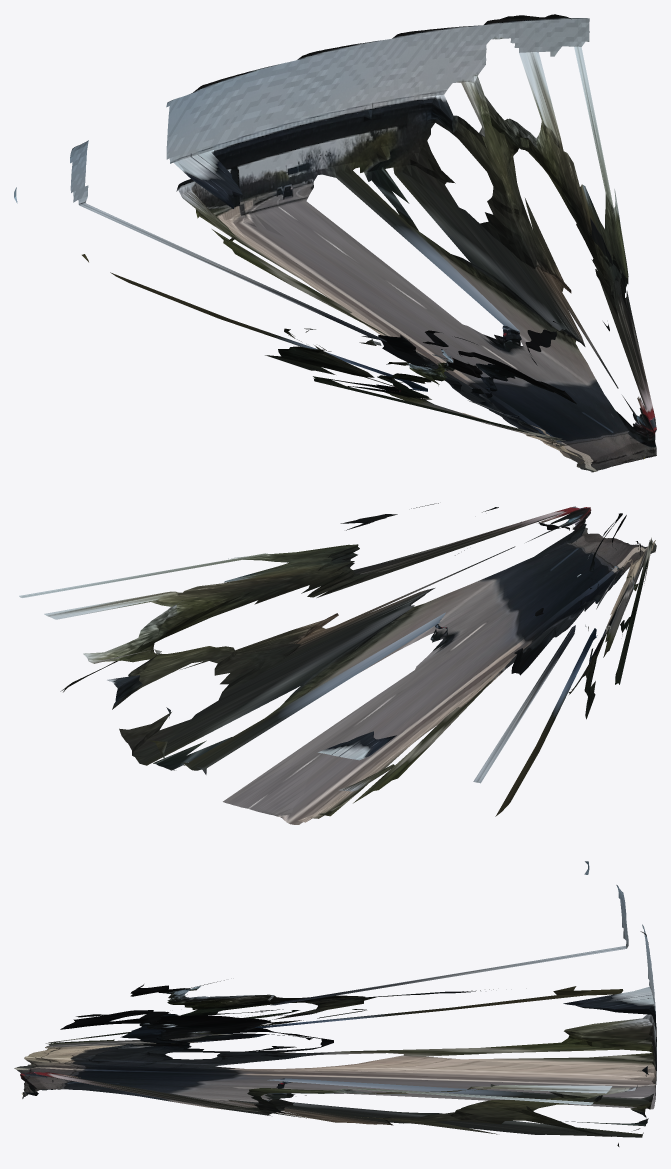
3 renders of one model, top to bottom at view 1: azimuth 30°, elevation 25°; view 2: azimuth 150°, elevation 25°; view 3: azimuth 270°, elevation 25°, orthographic. The views are drawn at different scales.
Visible parts, largest first — view 1: defaultobject; view 2: defaultobject; view 3: defaultobject.
Part boxes in pixels (x1,y1,x2,y2): defaultobject: (14, 14, 656, 472); defaultobject: (19, 503, 656, 824); defaultobject: (14, 861, 656, 1146).
Size of the model in its own units: 40.84 by 11.27 by 44.74.
1 material, 1 textured.
